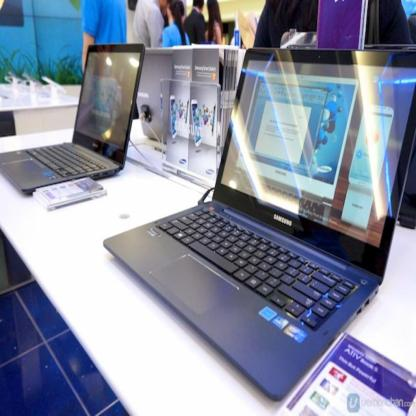board: (102, 40, 416, 398), (1, 46, 145, 198)
